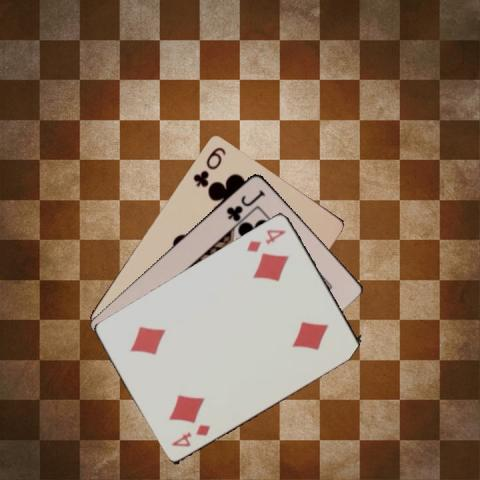4d: (168, 421, 212, 448), (244, 226, 287, 253)
6c: (190, 143, 227, 188)
Jc: (223, 186, 266, 222)
